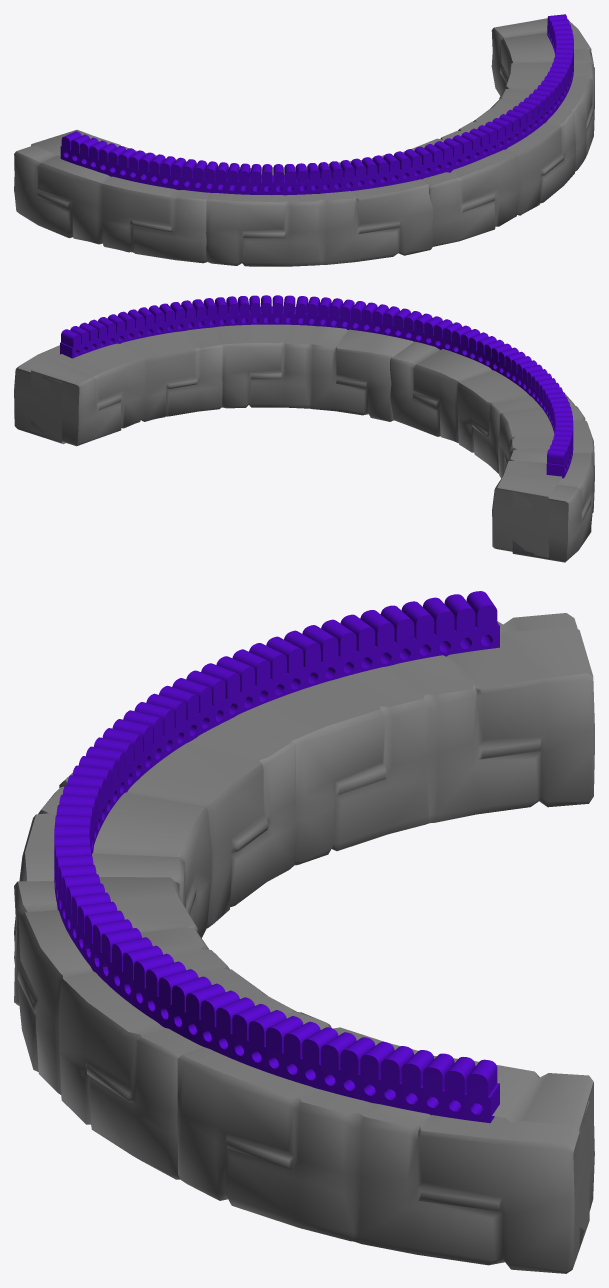
File: Hub_border_tree.fbx
3 renders of one model, top to bottom at view 1: azimuth 30°, elevation 25°; view 2: azimuth 150°, elevation 25°; view 3: azimuth 270°, elevation 25°, orthographic. The views are drawn at different scales.
Visible parts, largest first — view 1: Object054; view 2: Object054; view 3: Object054.
Boxes of the visible parts, left/top/right/bottom form: Object054: left=14, top=14, right=594, bottom=266; Object054: left=14, top=295, right=594, bottom=562; Object054: left=14, top=591, right=594, bottom=1273.
Size of the model in its own units: 13.8 by 2.09 by 6.3.
